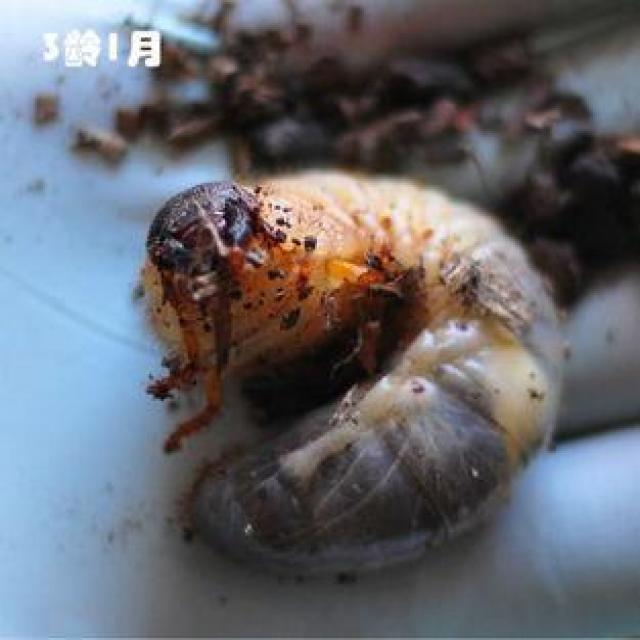Grub-Adult-: (125, 151, 577, 576)
